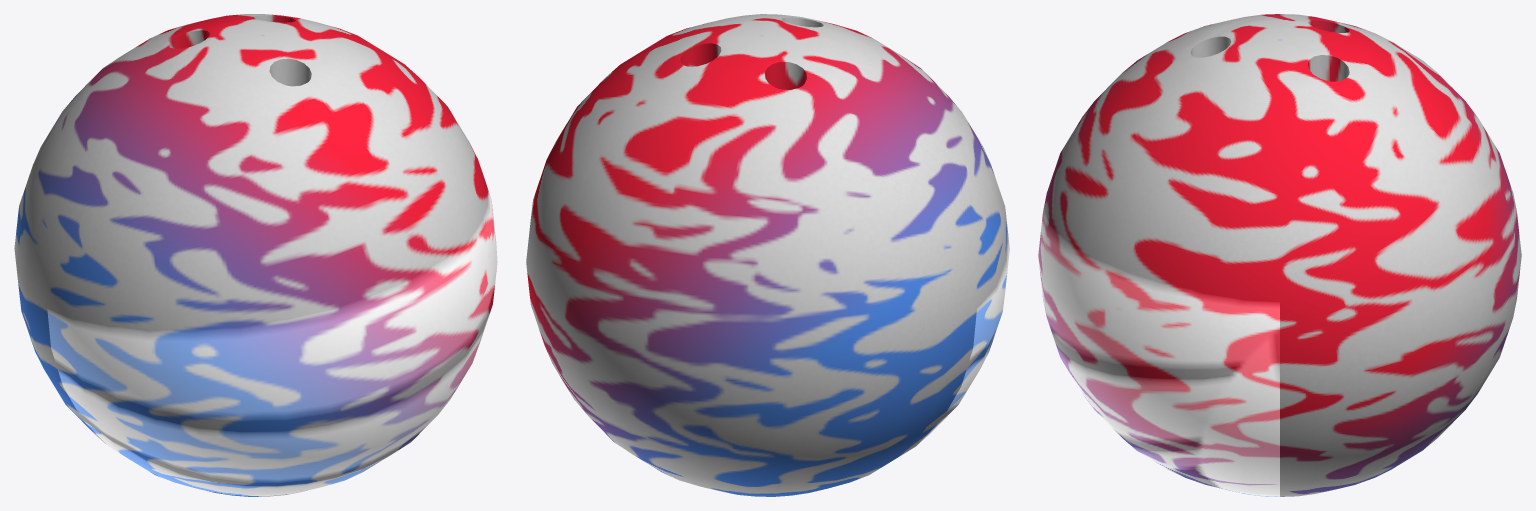
Rendered from SM_Ball_005.fbx.
3 renders of one model, left to right at view 1: azimuth 30°, elevation 25°; view 2: azimuth 150°, elevation 25°; view 3: azimuth 270°, elevation 25°, orthographic.
Visible parts, largest first — view 1: SM_Ball_005; view 2: SM_Ball_005; view 3: SM_Ball_005.
Boxes of the visible parts, box(x1,y1,x2,y2) form: SM_Ball_005: box(14, 14, 497, 496); SM_Ball_005: box(526, 14, 1009, 496); SM_Ball_005: box(1038, 14, 1521, 496).
Bounding box in the file's own units: 20 × 20 × 20.
Materials: 1 (1 with a texture image).
